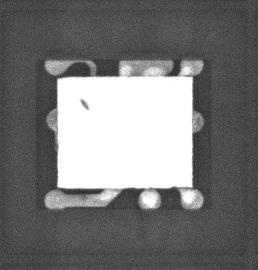DIE_INK: (75, 103, 85, 116)
